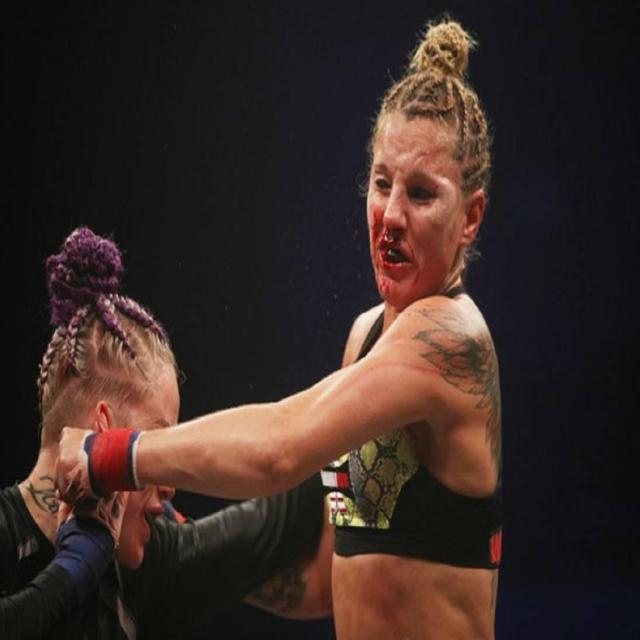flood: (367, 200, 427, 310)
